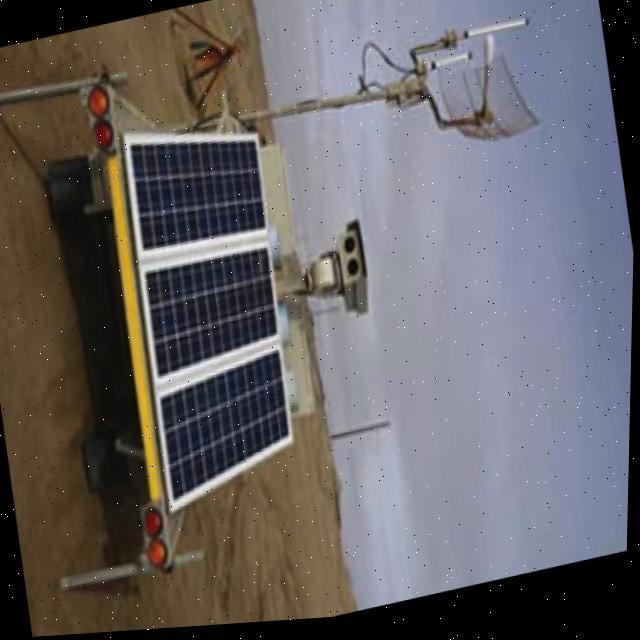Normal Solar Panel: (150, 353, 304, 516), (121, 112, 276, 264), (140, 244, 288, 389)
